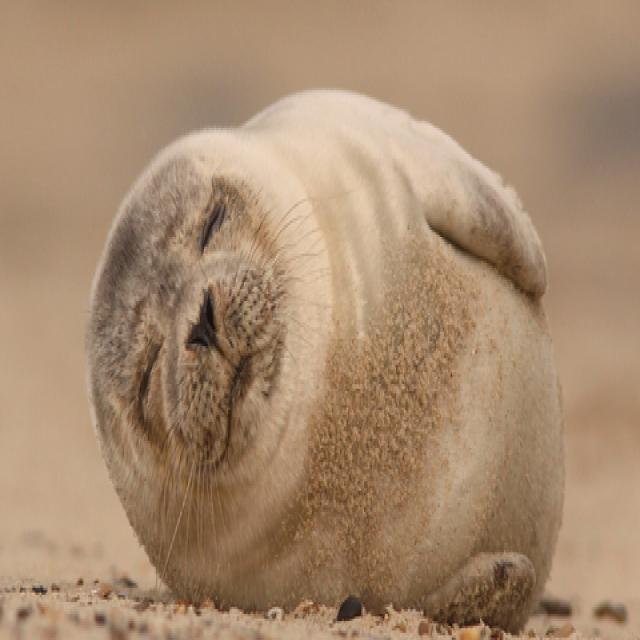WaterDog: (60, 83, 569, 630)
